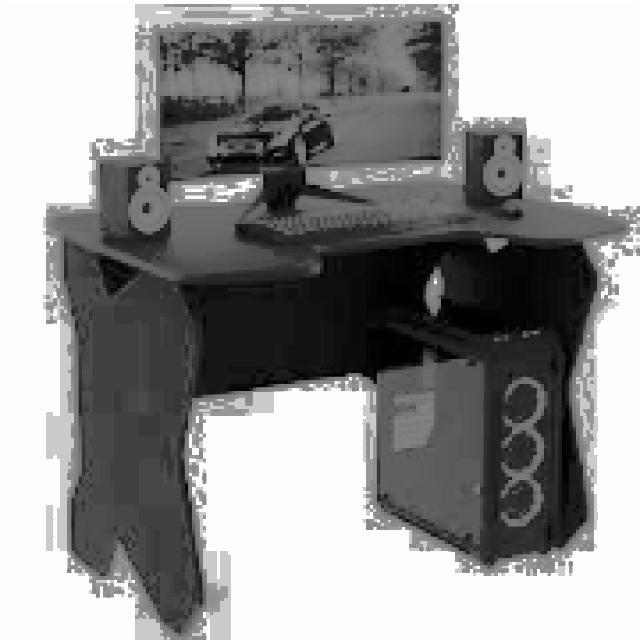table: (50, 178, 626, 633)
